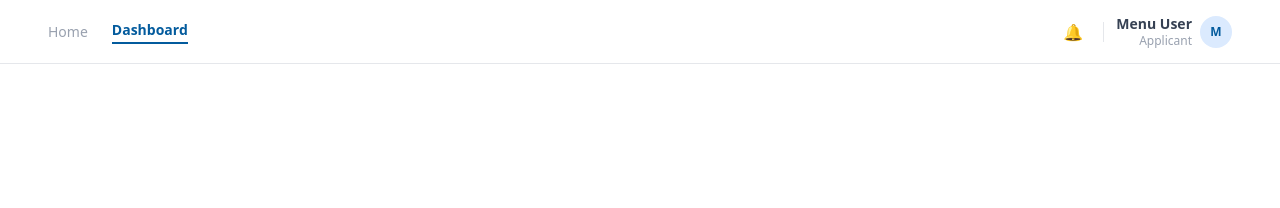
Topbar › user dropdown menu › shows dropdown when clicking avatar/name area
expect the text "Menu User" is shown: met, box [1116, 15, 1192, 33]
// The button wrapping the avatar/name area
Click the button "Menu User Applicant M" at (1174, 32), box [1116, 15, 1232, 48]
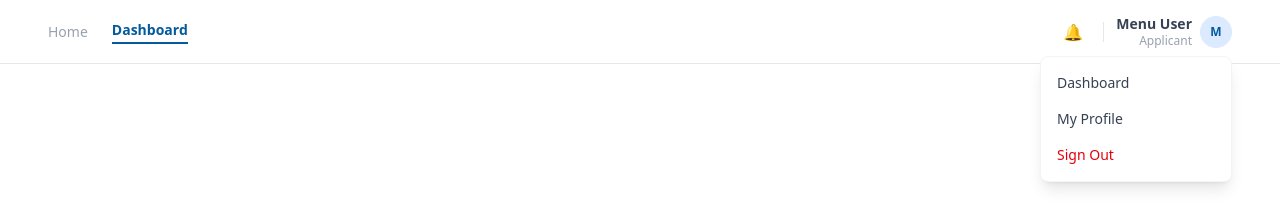
expect the button "Sign Out" is shown: met, box [1041, 137, 1231, 173]
